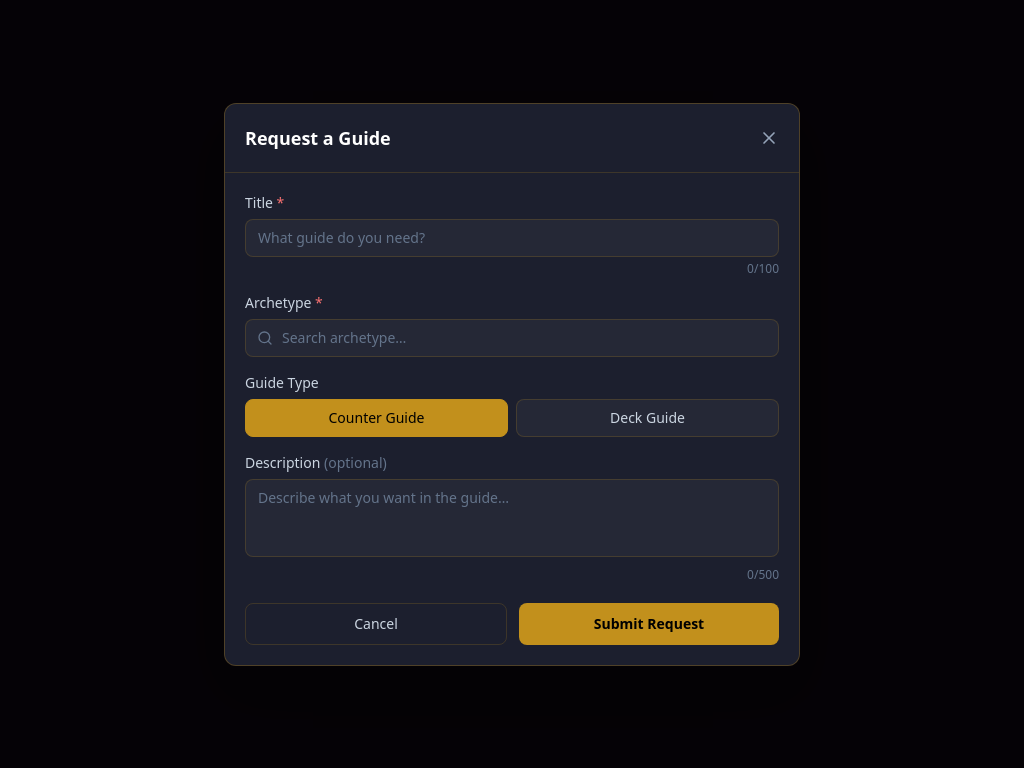
Test: CreateGuideRequestModal › should show error when no archetype selected
In the field with placeholder "What guide do you need?": (512,238) [245,218,779,256], type "Some Guide"
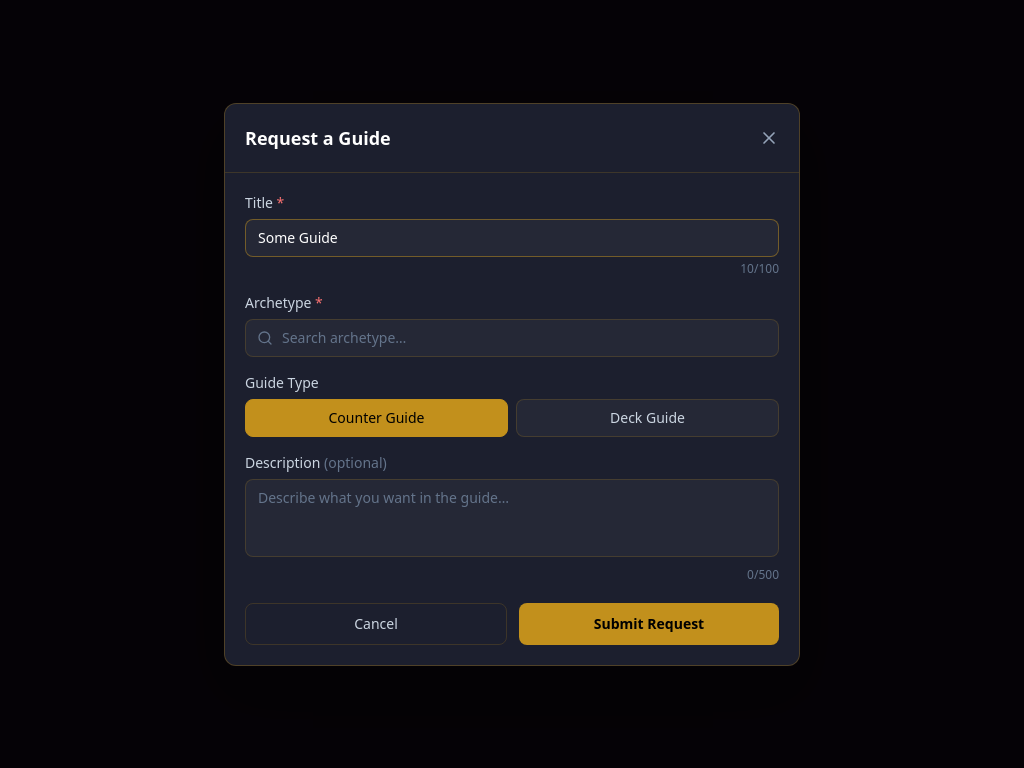
Click the button "Submit Request": (649,624) [519,602,779,644]
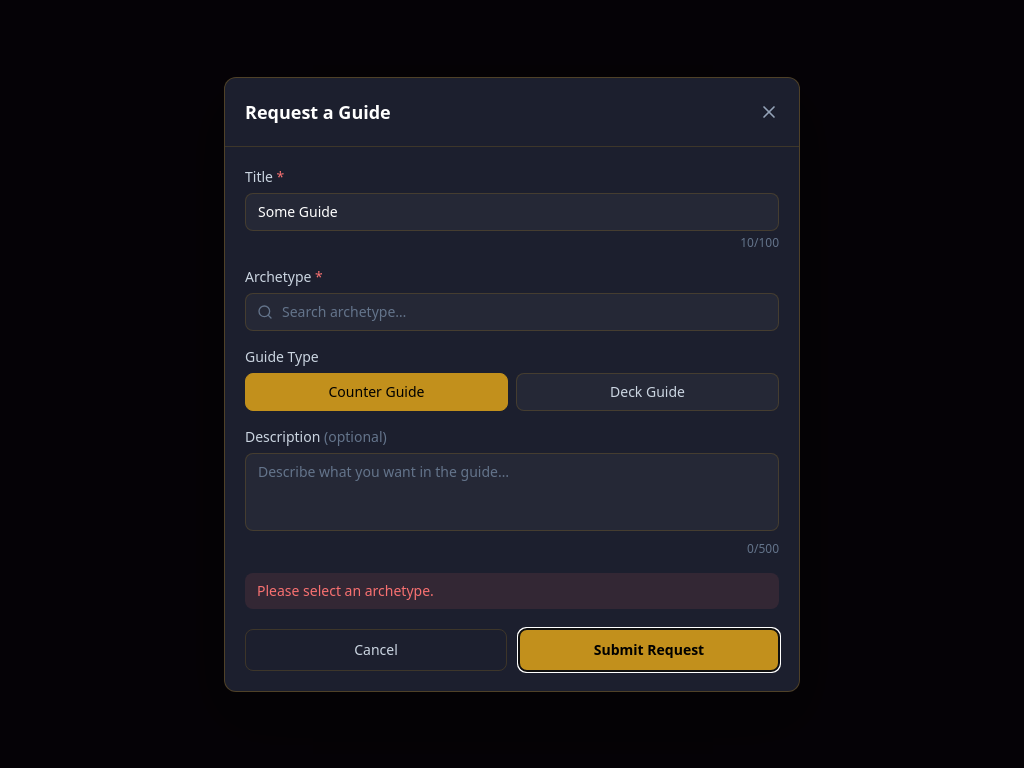
Expected: the text "Please select an archetype." is shown, [245,572,779,608]
